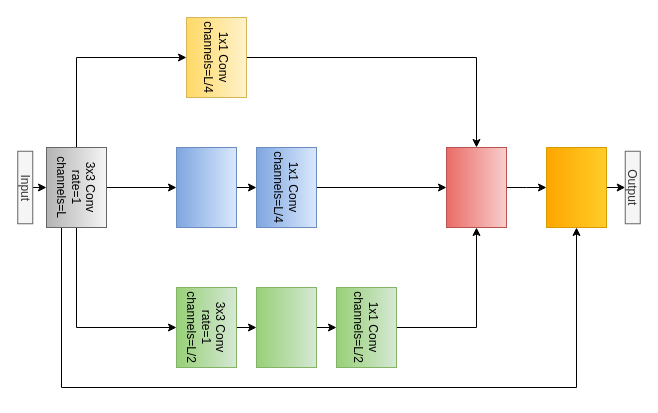
The diagram is 658 pixels wide and 413 high, and some of its shapes have lost their labels. The shapes that lost their labels are listed below. From the top down, each one's box as (x1, y1, x2, y2) in pixels, then its label:
(176, 146, 236, 228): 3x3 Conv rate=1 channels=L/4
(446, 146, 506, 228): 1x1 Conv channels=L
(546, 146, 606, 228): 3x3 Conv rate=2 channels=L
(256, 286, 316, 368): 3x3 Conv rate=2 channels=L/2
